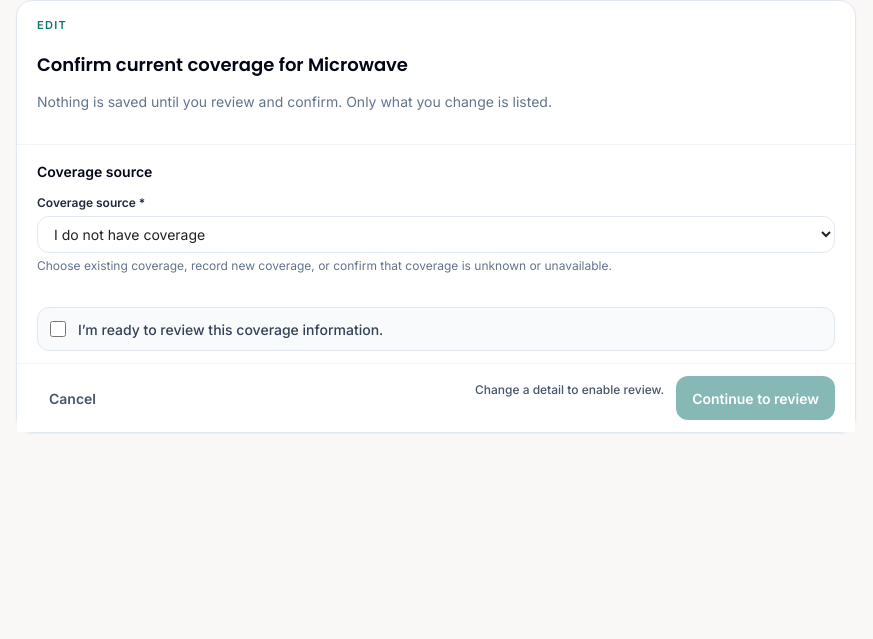
item coverage uses one editor and reveals only the selected insurance or warranty section
Check: the button "Add insurance policy" is not shown
Select "Add insurance policy" in the dropdown labelled "Coverage source *": [436, 235] box x1=37 y1=216 x2=835 y2=253
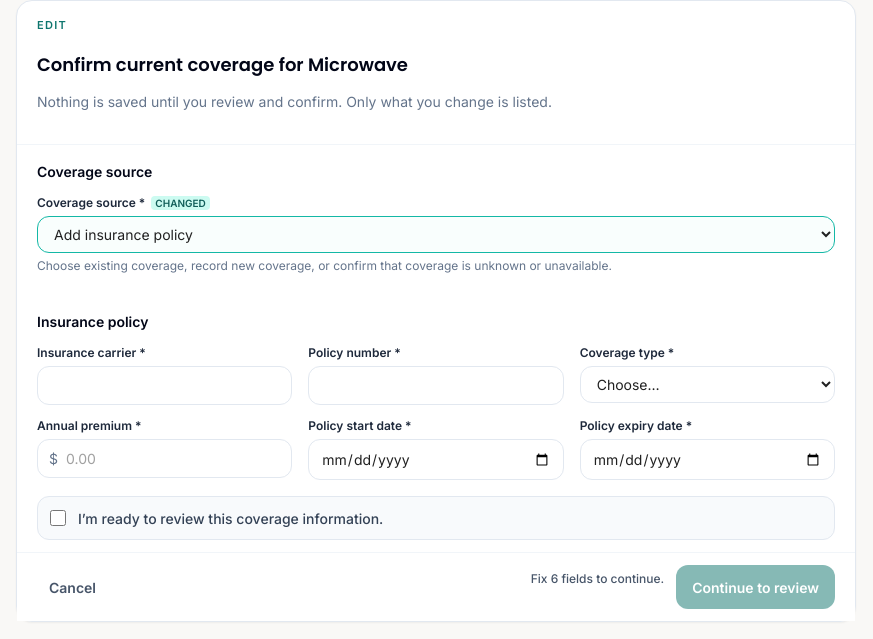
Check: the text "$" is shown, box x1=49 y1=450 x2=58 y2=467
Select "Add warranty" in the dropdown labelled "Coverage source *Changed": [436, 235] box x1=37 y1=216 x2=835 y2=253
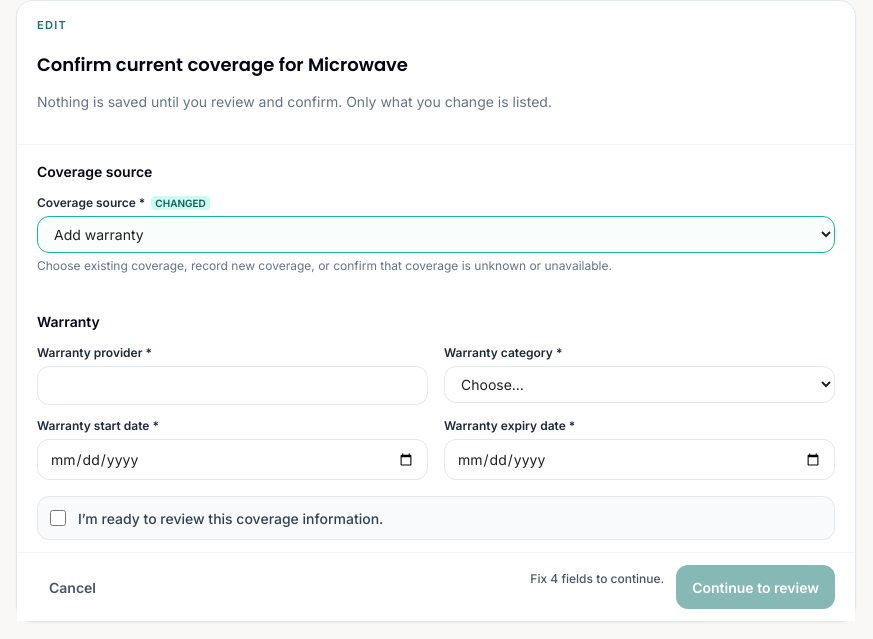
Check: the label labelled "Insurance carrier" is gone
